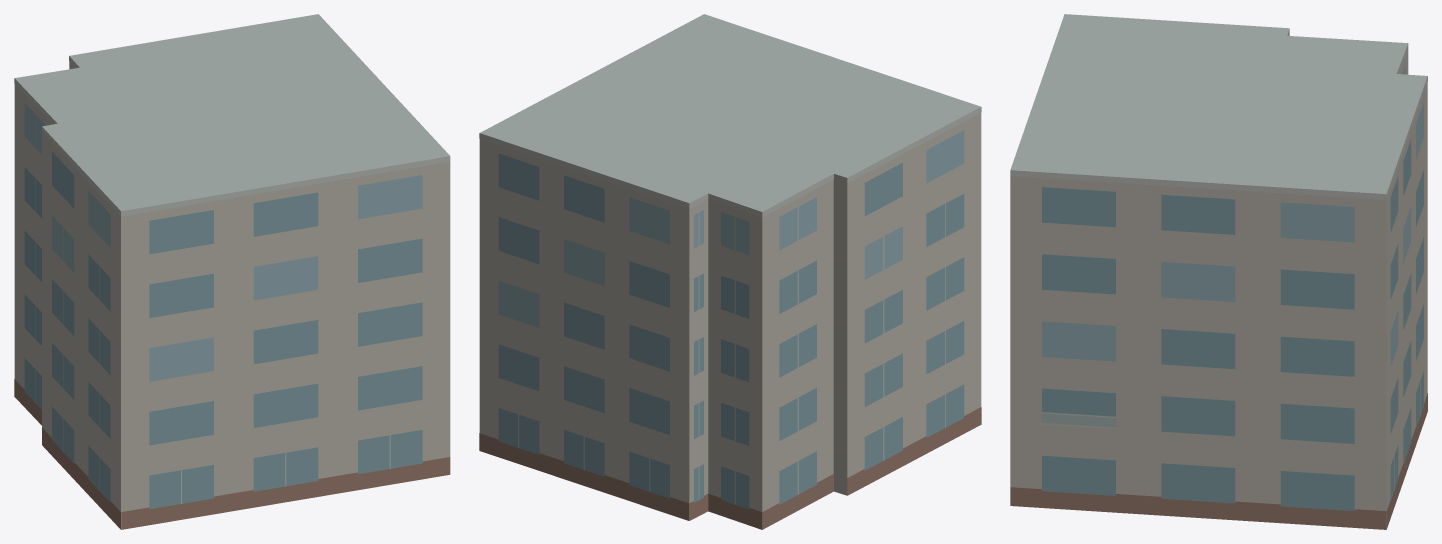
The model's file is survey-upis-32511644.glb.
3 views of the same model, side by side, from view 1: azimuth 30°, elevation 25°; view 2: azimuth 150°, elevation 25°; view 3: azimuth 270°, elevation 25° (orthographic). The views are drawn at different scales.
Visible parts, largest first — view 1: survey-upis-32511644.tmp; view 2: survey-upis-32511644.tmp; view 3: survey-upis-32511644.tmp.
Boxes of the visible parts, x1,y1,x2,y2 form: survey-upis-32511644.tmp: (14, 14, 450, 529); survey-upis-32511644.tmp: (479, 14, 981, 529); survey-upis-32511644.tmp: (1010, 14, 1427, 529).
Bounding box in the file's own units: 16.12 × 14 × 15.79.
